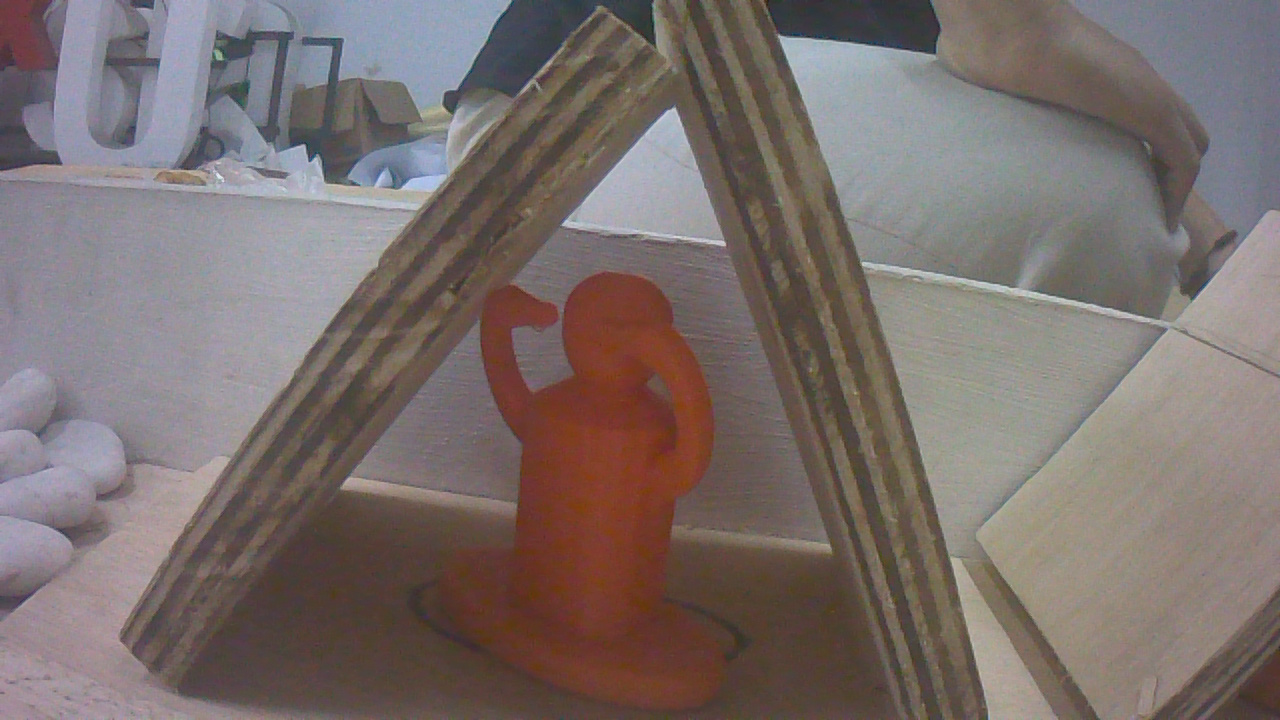real: (457, 251, 734, 699)
